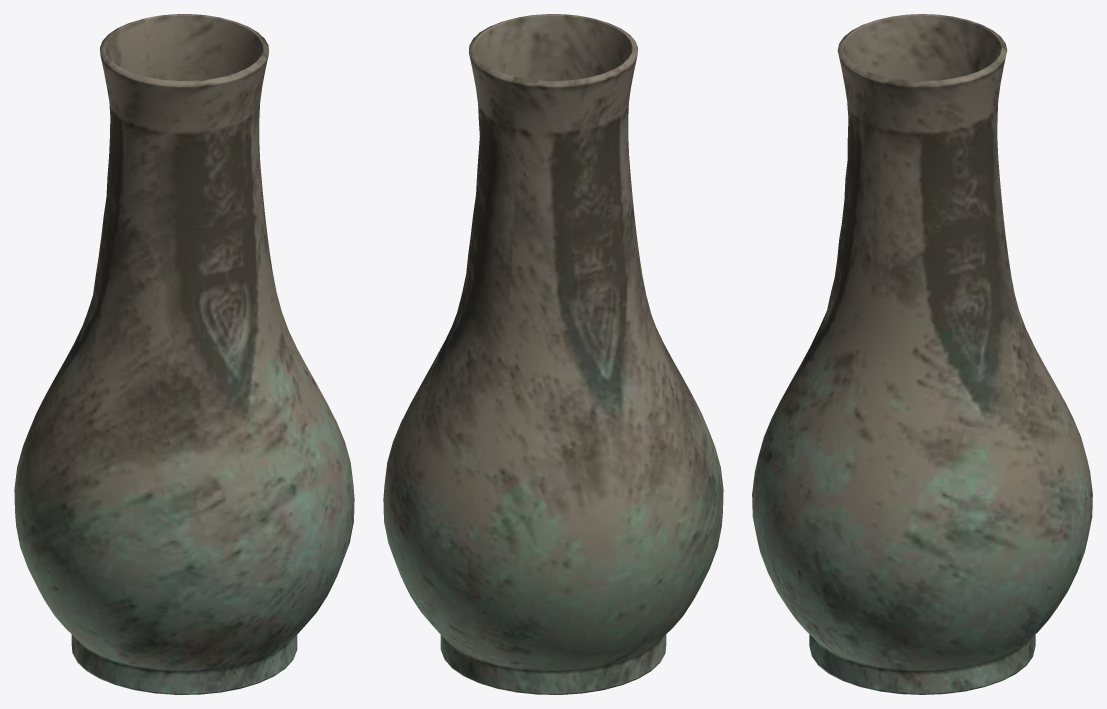
The model's file is antique-vase.glb.
The picture shows the model from 3 angles, left to right: view 1: azimuth 30°, elevation 25°; view 2: azimuth 150°, elevation 25°; view 3: azimuth 270°, elevation 25°; orthographic projection.
Visible parts, largest first — view 1: defaultMaterial; view 2: defaultMaterial; view 3: defaultMaterial.
Part boxes in pixels (x1=…): defaultMaterial: x1=14, y1=14, x2=354, y2=694; defaultMaterial: x1=383, y1=14, x2=723, y2=694; defaultMaterial: x1=752, y1=14, x2=1092, y2=694.
Bounding box in the file's own units: 0.2317 × 0.45 × 0.2317.
Materials: 1 (1 with a texture image).
